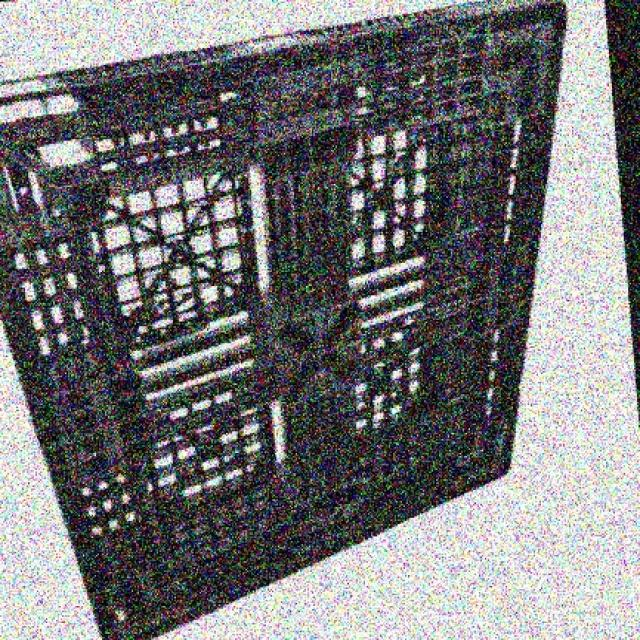non-igps: (1, 0, 569, 640)
